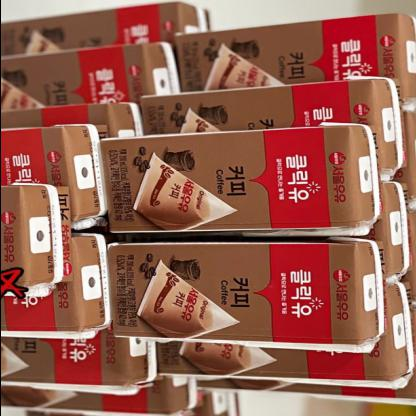tetra: (95, 112, 383, 240), (97, 238, 398, 354)
